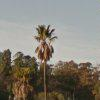Palm tree: (29, 18, 62, 100)
